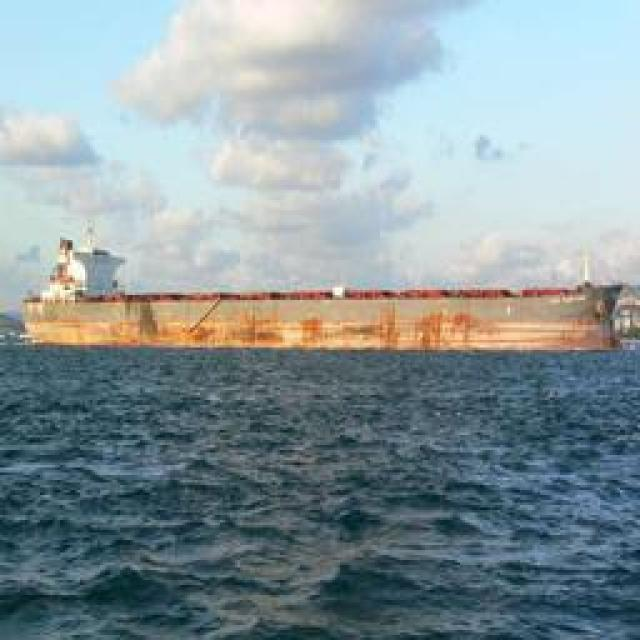ship2: (22, 226, 622, 353)
